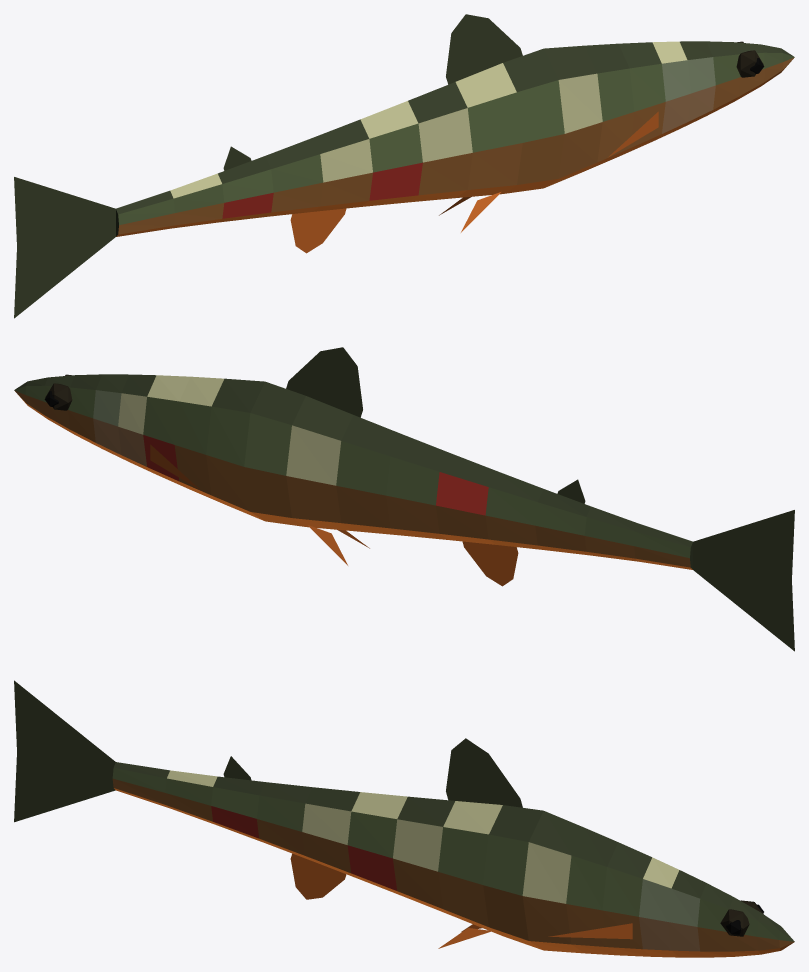
File: brook-trout.glb
3 renders of one model, top to bottom at view 1: azimuth 30°, elevation 25°; view 2: azimuth 150°, elevation 25°; view 3: azimuth 330°, elevation 25°, orthographic.
Parts seen in each view (by area): view 1: brook-trout; view 2: brook-trout; view 3: brook-trout.
Boxes of the visible parts, bbox=[...] form: brook-trout: bbox=[14, 14, 794, 318]; brook-trout: bbox=[14, 347, 794, 651]; brook-trout: bbox=[14, 680, 794, 957].
Size of the model in its own units: 1.15 by 0.2907 by 0.15.
